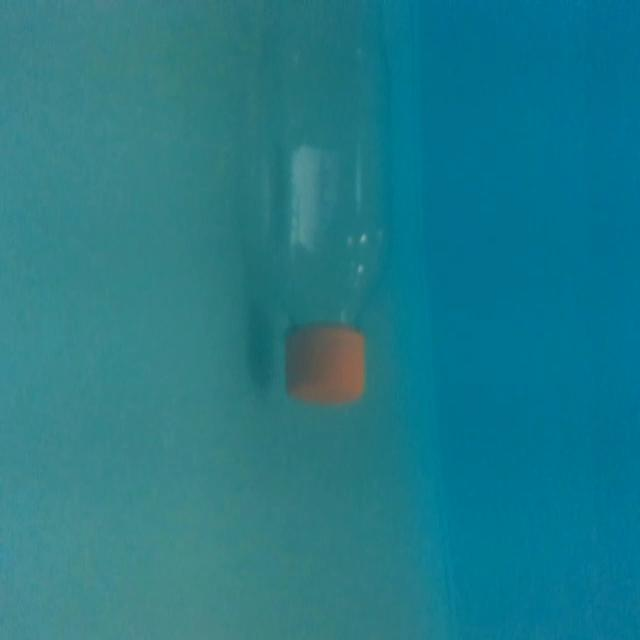plastic bottle: (242, 2, 404, 406)
